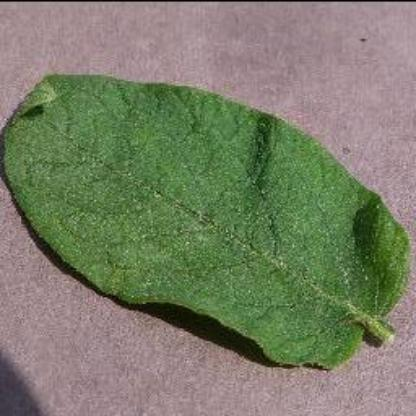Healthy-plant: (4, 70, 408, 376)
